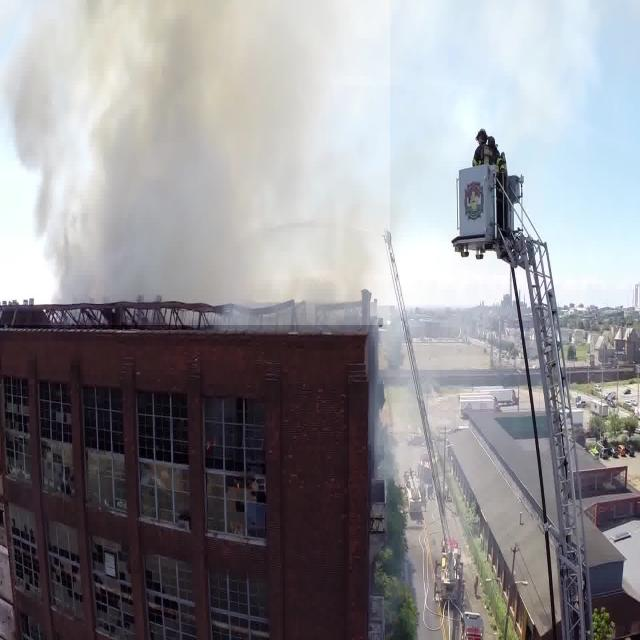Smoke: (0, 0, 390, 325)
